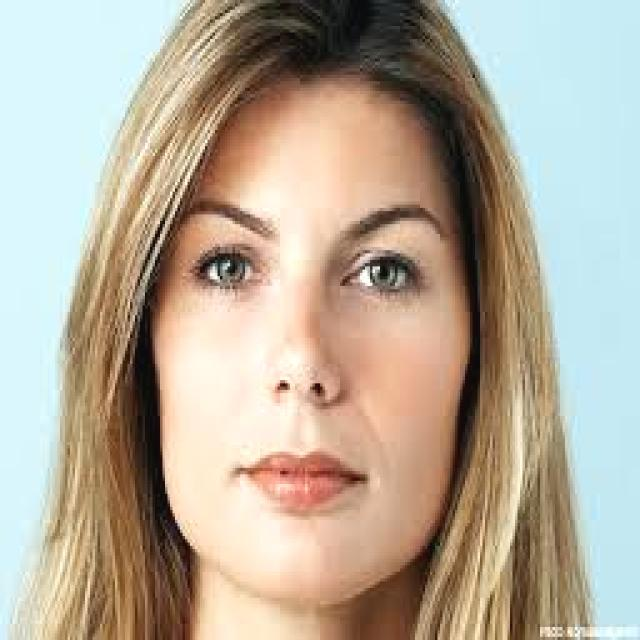normal_face: (117, 45, 505, 617)
